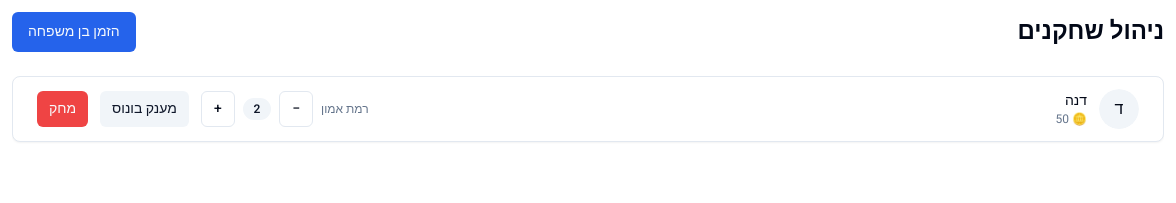
Test: PlayersPage › shows error message when trust level RPC fails
This screenshot has width=1176, height=203.
Click the button named "העלה רמת אמון של דנה": (218, 109) left=201, top=91, right=235, bottom=127
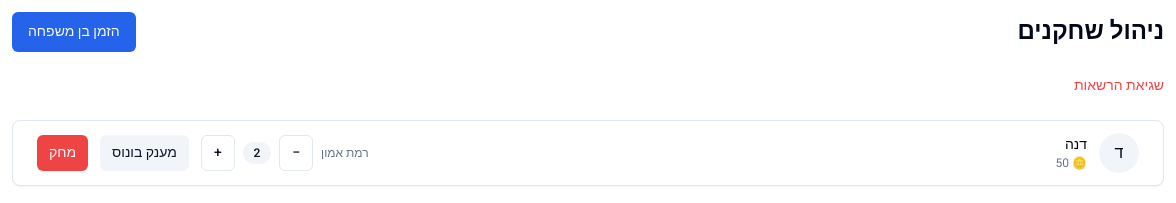
Check: the message reads "שגיאת הרשאות", box left=1074, top=75, right=1164, bottom=96
